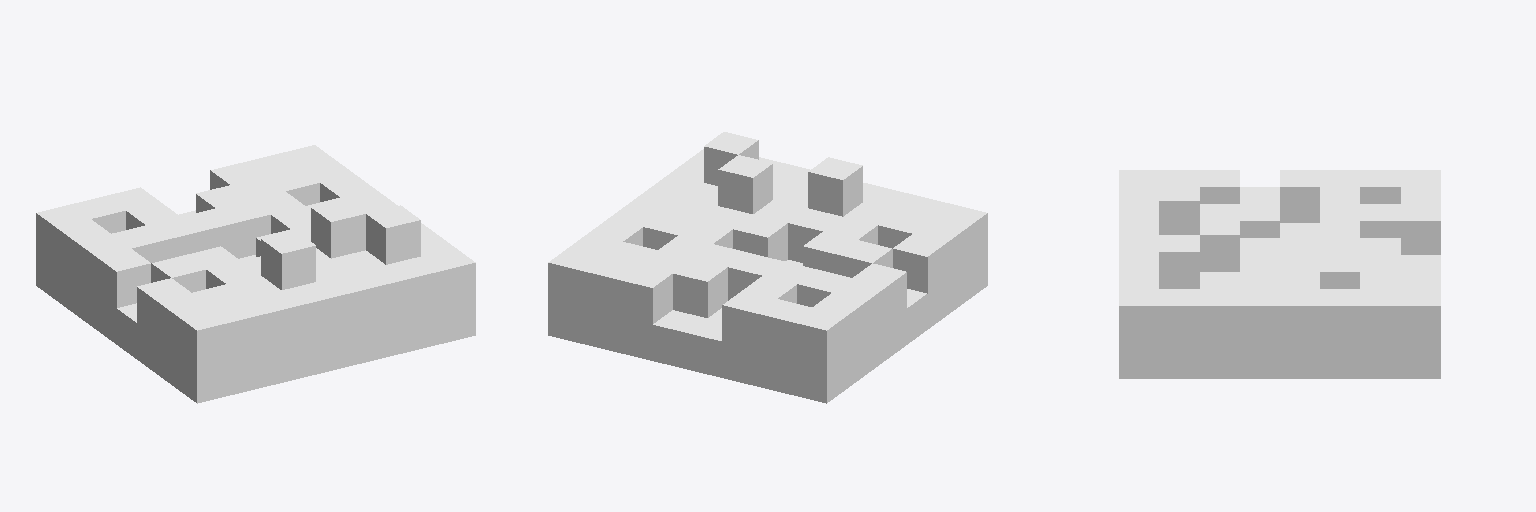
The model's file is GreenCorall12.obj.
3 renders of one model, left to right at view 1: azimuth 30°, elevation 25°; view 2: azimuth 150°, elevation 25°; view 3: azimuth 270°, elevation 25°, orthographic.
Visible parts, largest first — view 1: object 1; view 2: object 1; view 3: object 1.
Part boxes in pixels (left/top/right/bottom): object 1: left=36, top=145, right=475, bottom=403; object 1: left=548, top=132, right=987, bottom=403; object 1: left=1119, top=170, right=1440, bottom=378.
Bounding box in the file's own units: 0.8 × 0.3 × 0.8.